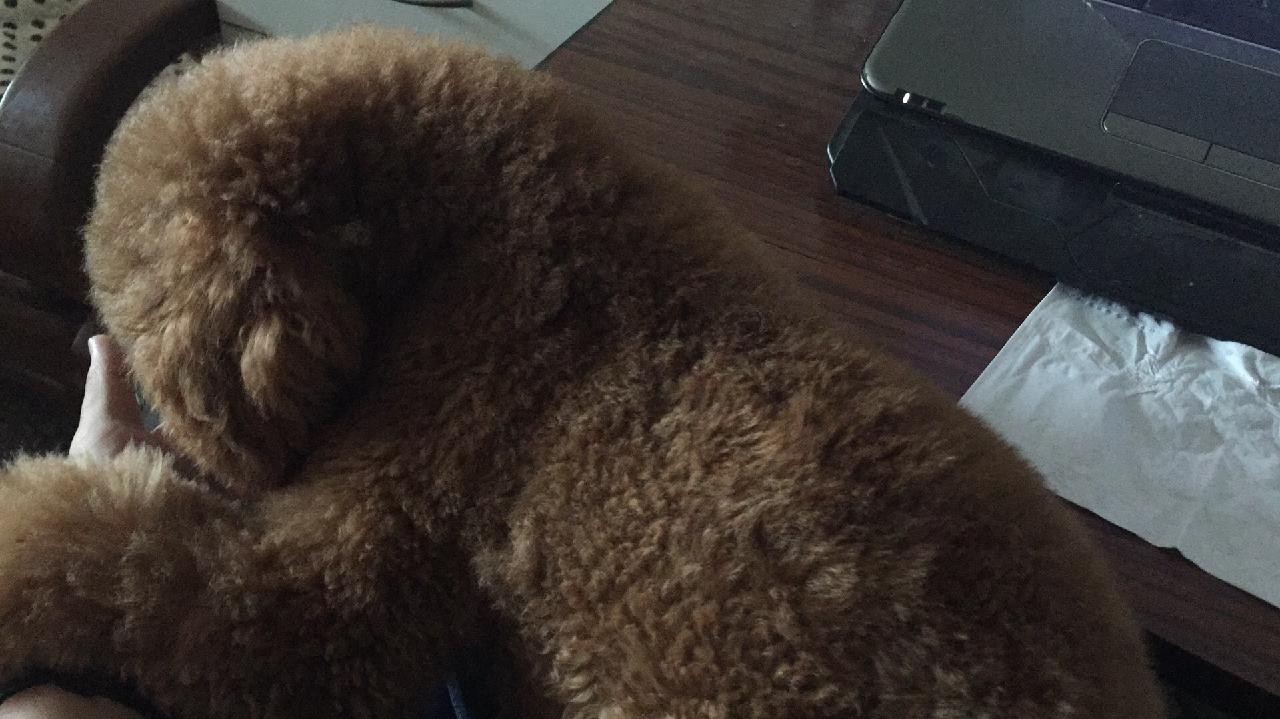zhuangzhuang: (69, 30, 1135, 719)
